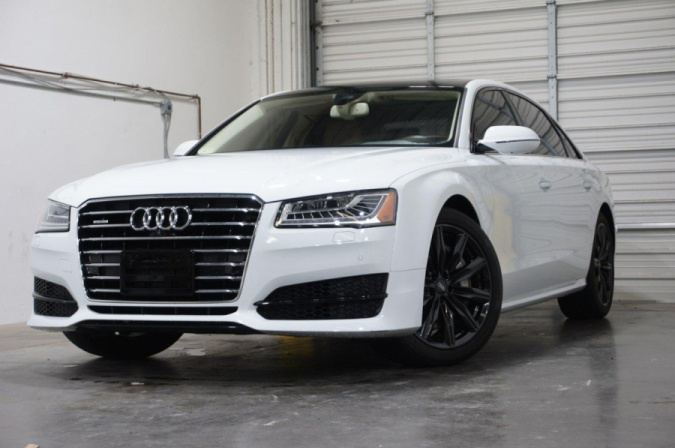audi: (125, 202, 197, 233)
